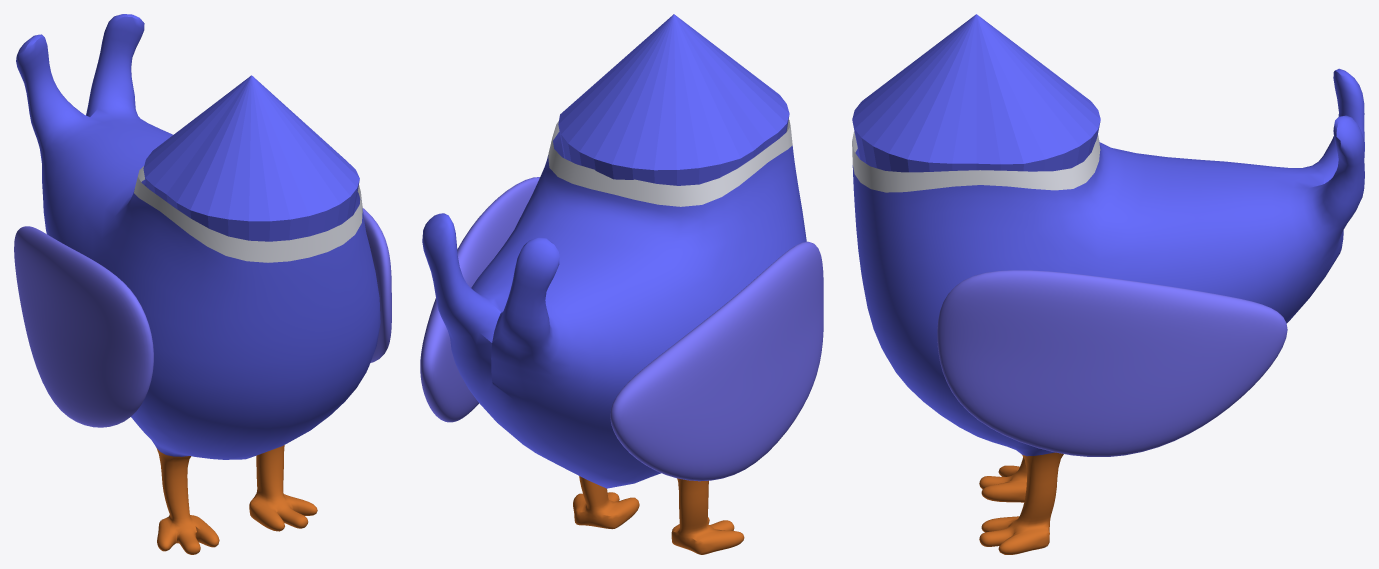
File: pigeonBody.glb
The picture shows the model from 3 angles, left to right: view 1: azimuth 30°, elevation 25°; view 2: azimuth 150°, elevation 25°; view 3: azimuth 270°, elevation 25°; orthographic projection. The views are drawn at different scales.
Parts seen in each view (by area): view 1: cuerpo_5, winds_3; view 2: cuerpo_5, winds_3; view 3: cuerpo_5, winds_3.
Boxes of the visible parts, x1,y1,x2,y2 form: cuerpo_5: (16,14,380,554); winds_3: (14,208,391,427); cuerpo_5: (422,14,806,554); winds_3: (420,177,823,481); cuerpo_5: (852,14,1364,554); winds_3: (937,270,1287,456).
Bounding box in the file's own units: 1.79 × 2.88 × 2.66.
